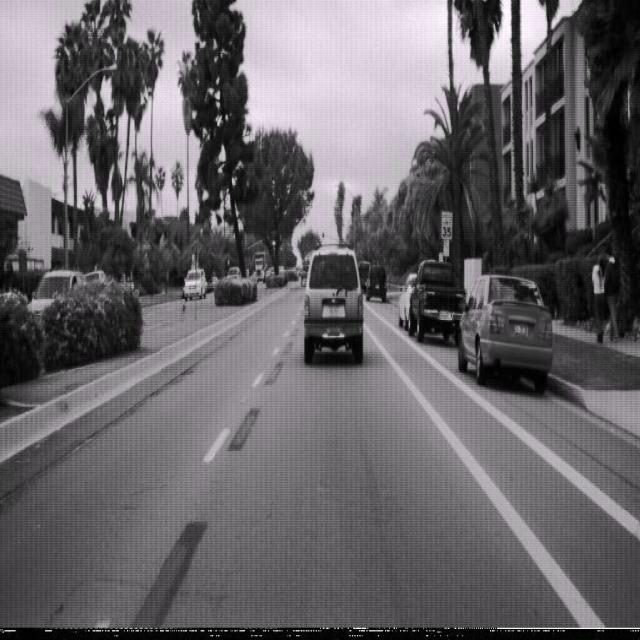speedLimit35: (440, 210, 453, 242)
